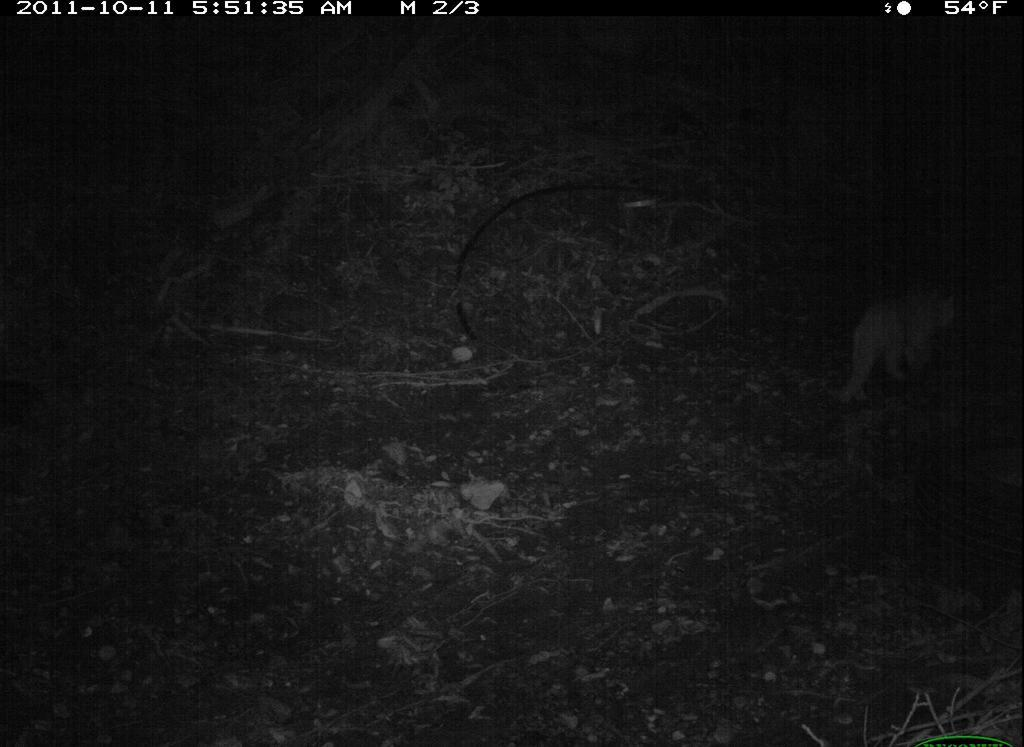cat: (816, 271, 977, 415)
